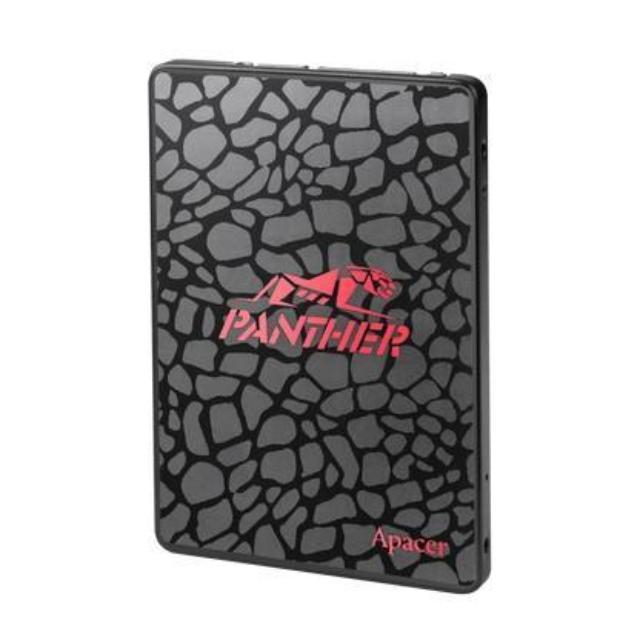DISK: (136, 50, 510, 605)
